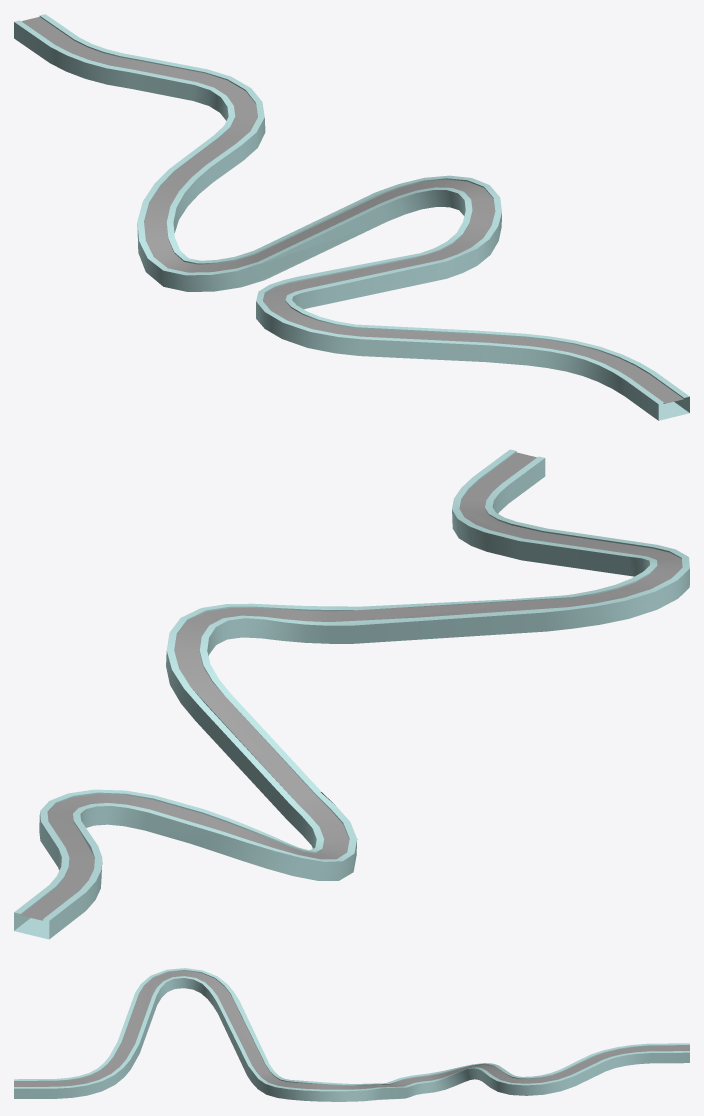
File: serpantin.fbx
3 renders of one model, top to bottom at view 1: azimuth 30°, elevation 25°; view 2: azimuth 150°, elevation 25°; view 3: azimuth 270°, elevation 25°, orthographic. The views are drawn at different scales.
Visible parts, largest first — view 1: Cube.032; view 2: Cube.032; view 3: Cube.032.
Part boxes in pixels (bbox=[...]): Cube.032: bbox=[14, 14, 689, 420]; Cube.032: bbox=[14, 449, 689, 939]; Cube.032: bbox=[14, 968, 689, 1101].
Size of the model in its own units: 2165 by 870 by 6088.
